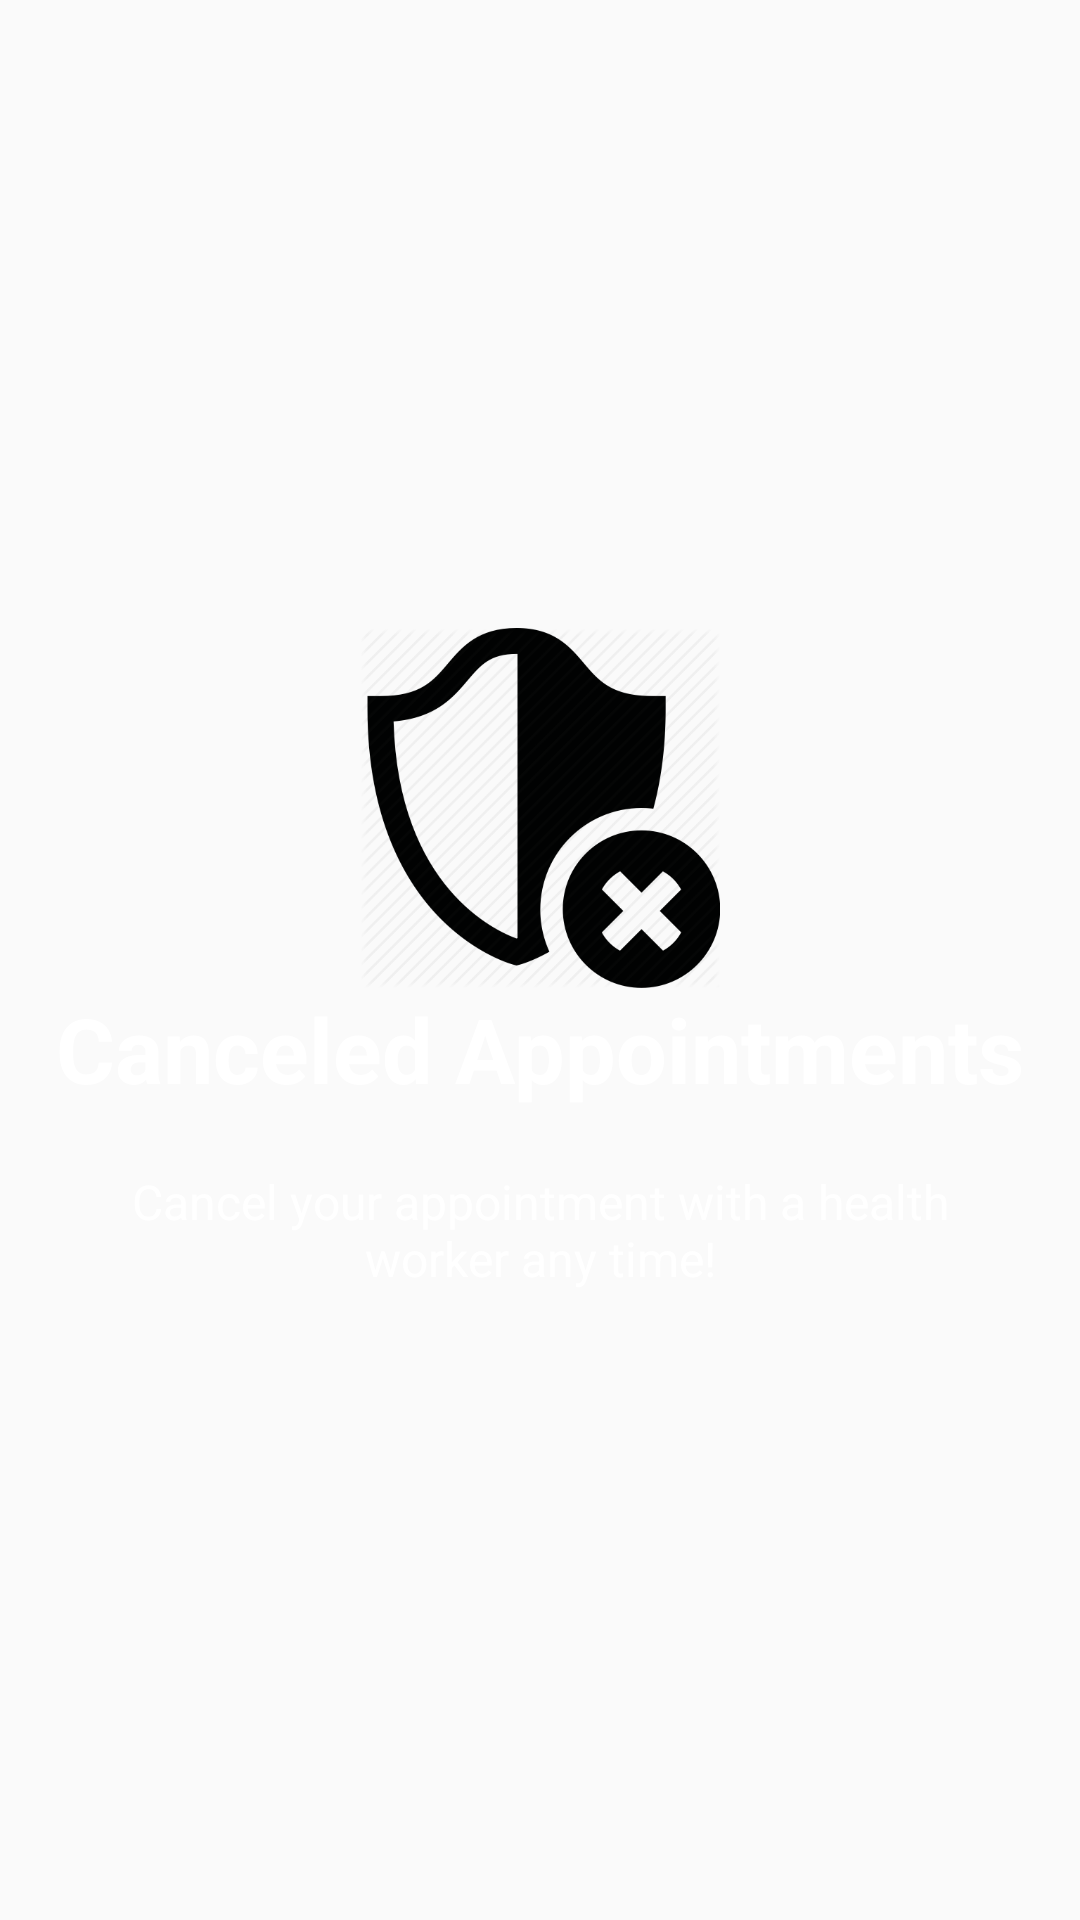

Screen size 1080px×1920px. Icon name, then its box in pixels as (x1, y1, x2, y2):
denied: (367, 628, 720, 988)
